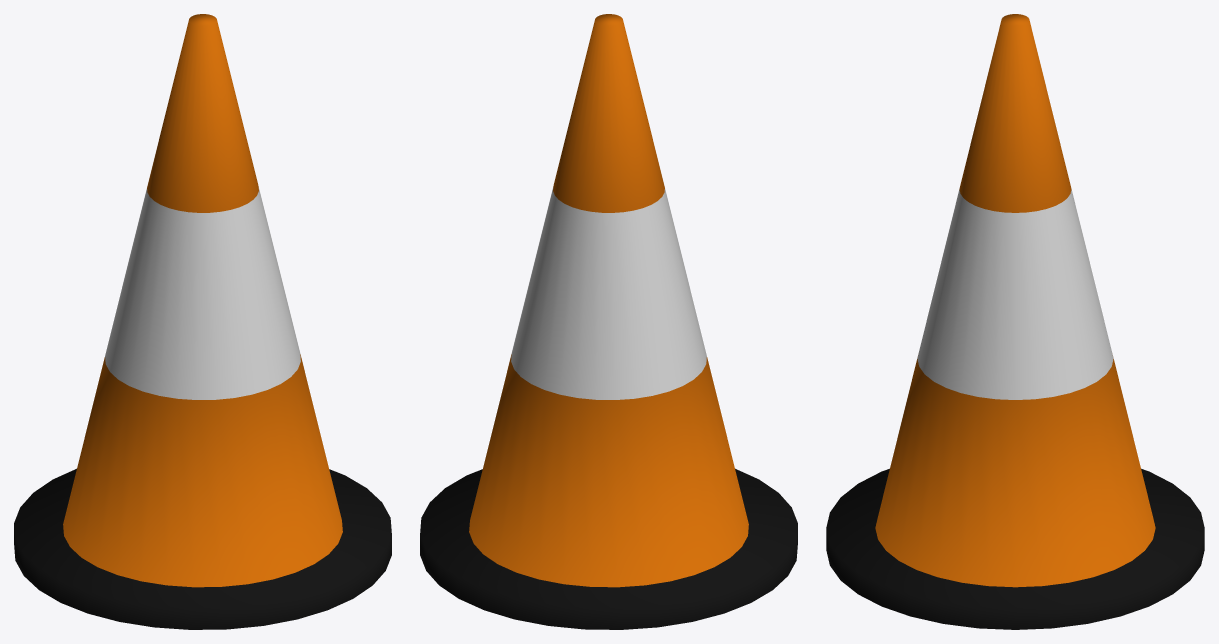
File: traffic-cone.fbx
3 views of the same model, side by side, from view 1: azimuth 30°, elevation 25°; view 2: azimuth 150°, elevation 25°; view 3: azimuth 270°, elevation 25° (orthographic).
Visible parts, largest first — view 1: Cylinder; view 2: Cylinder; view 3: Cylinder.
Boxes of the visible parts, bbox=[...] form: Cylinder: bbox=[14, 14, 391, 629]; Cylinder: bbox=[420, 14, 797, 629]; Cylinder: bbox=[826, 14, 1204, 629].
Bounding box in the file's own units: 1.35 × 2.09 × 1.35.
